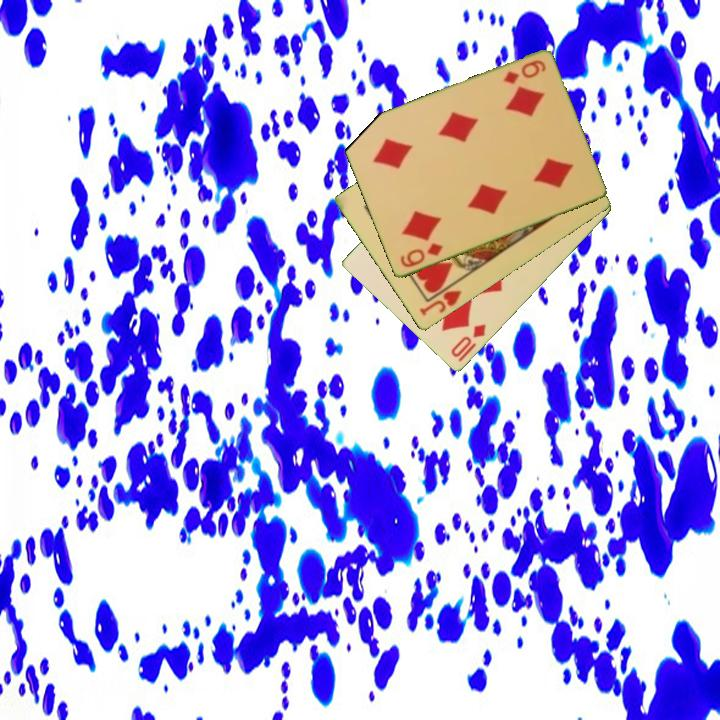10d: (447, 321, 489, 365)
6d: (396, 240, 446, 271), (499, 57, 549, 87)
Jh: (416, 277, 465, 319)
